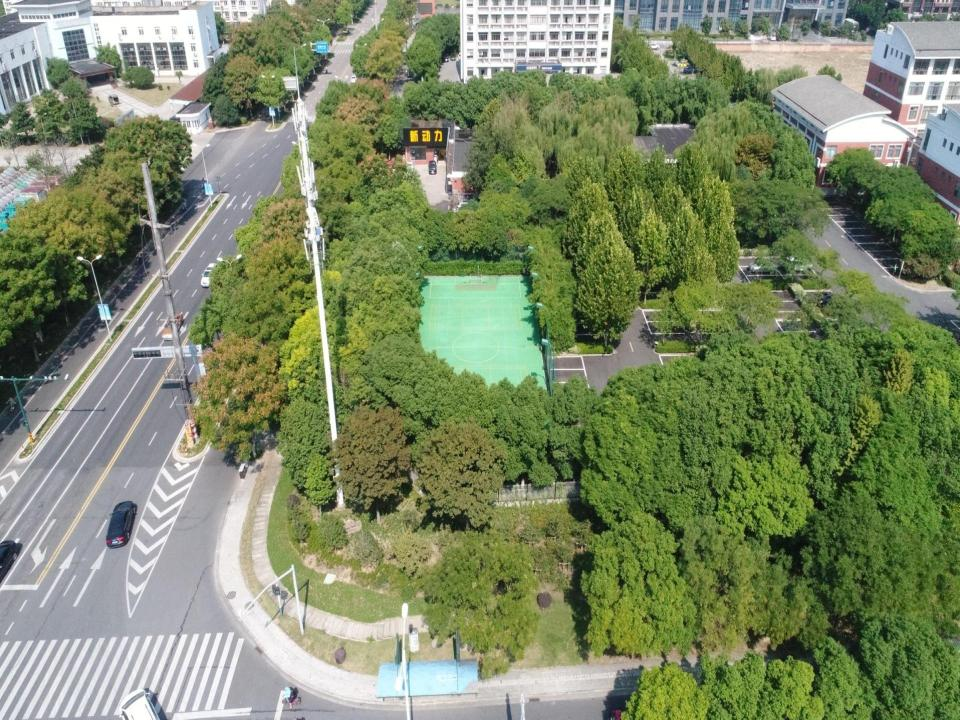car: (106, 500, 137, 548), (119, 688, 161, 719), (0, 531, 19, 588), (160, 313, 184, 341), (784, 256, 813, 272), (200, 260, 216, 287), (748, 259, 778, 273), (815, 291, 837, 307), (456, 199, 471, 209), (428, 159, 437, 175), (383, 158, 396, 169), (683, 66, 696, 74), (674, 59, 688, 66), (406, 159, 414, 171), (677, 60, 689, 68), (647, 43, 660, 50), (350, 75, 359, 83), (442, 52, 449, 62), (766, 34, 776, 41), (457, 51, 463, 61), (450, 52, 456, 61)
van: (107, 93, 119, 105)
